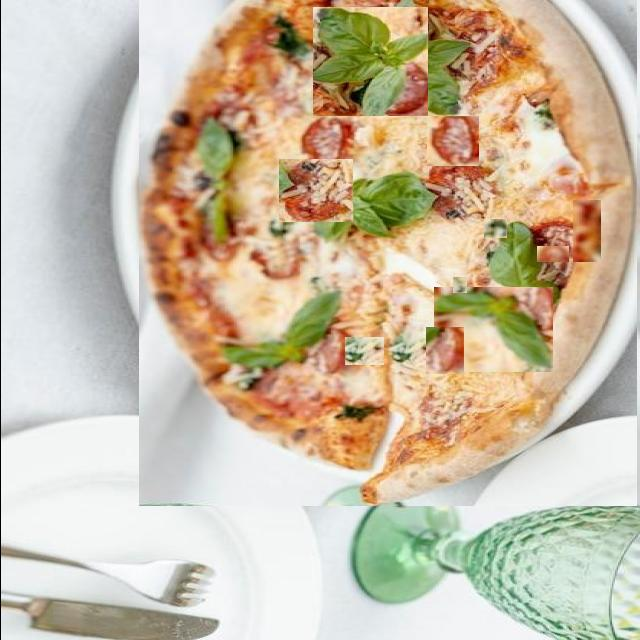basil: (310, 7, 426, 116), (220, 219, 298, 371), (433, 287, 552, 372), (337, 171, 466, 244), (539, 180, 588, 244), (540, 115, 580, 182), (460, 12, 502, 59), (342, 337, 382, 365), (392, 403, 442, 422), (218, 102, 241, 126), (483, 219, 506, 238), (452, 277, 466, 293)
pepperoni: (278, 159, 352, 222), (381, 9, 427, 67), (426, 116, 478, 166), (196, 220, 242, 276), (474, 243, 530, 278), (425, 328, 463, 376), (572, 200, 600, 262), (519, 106, 560, 138), (536, 246, 568, 262), (499, 22, 514, 44)
pizza: (138, 0, 636, 506)
